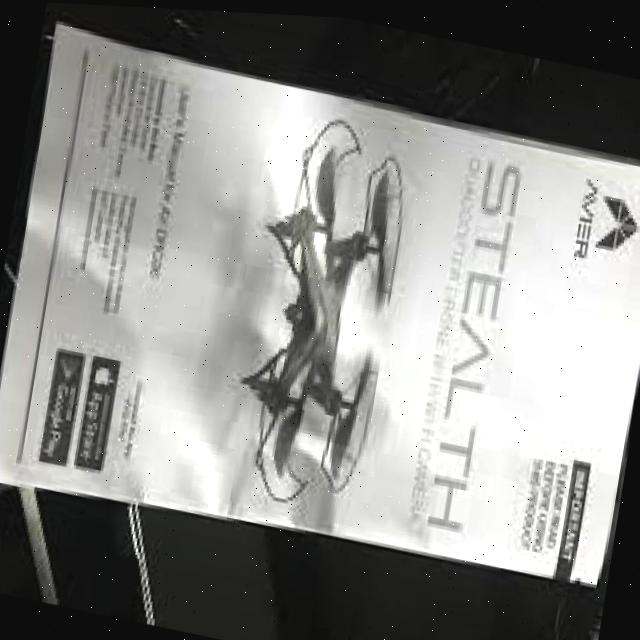drone: (210, 97, 428, 536)
